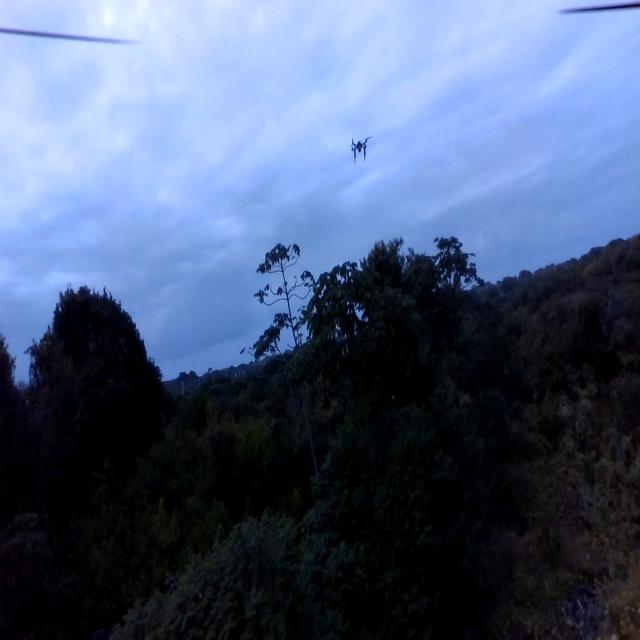-uav-: (345, 126, 375, 167)
